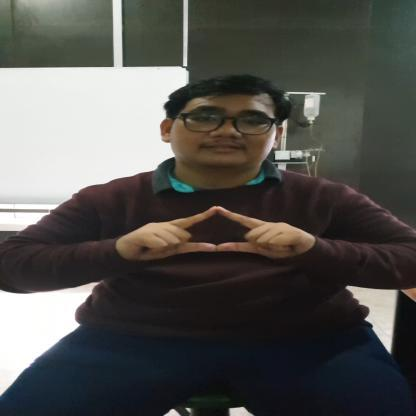A: (115, 205, 313, 261)
